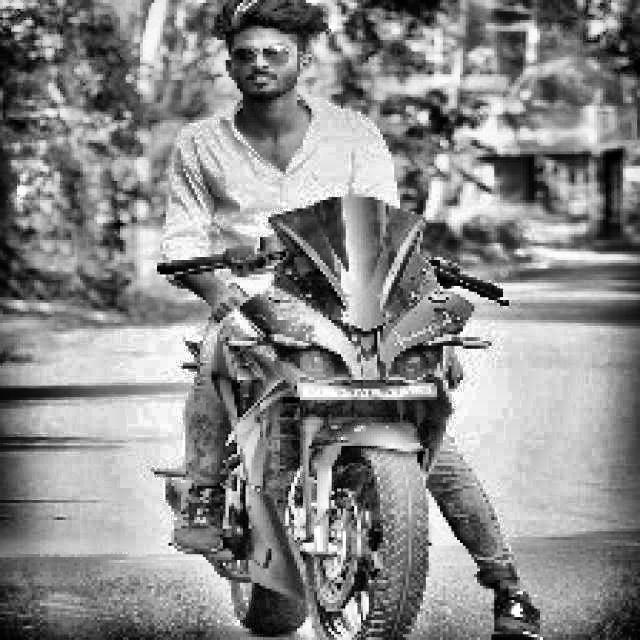motorcycle: (138, 206, 564, 640)
